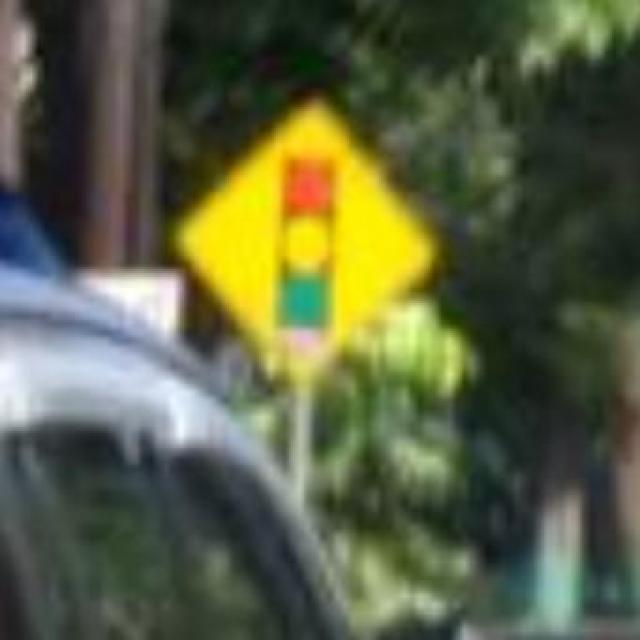traffic sign: (176, 103, 426, 378)
